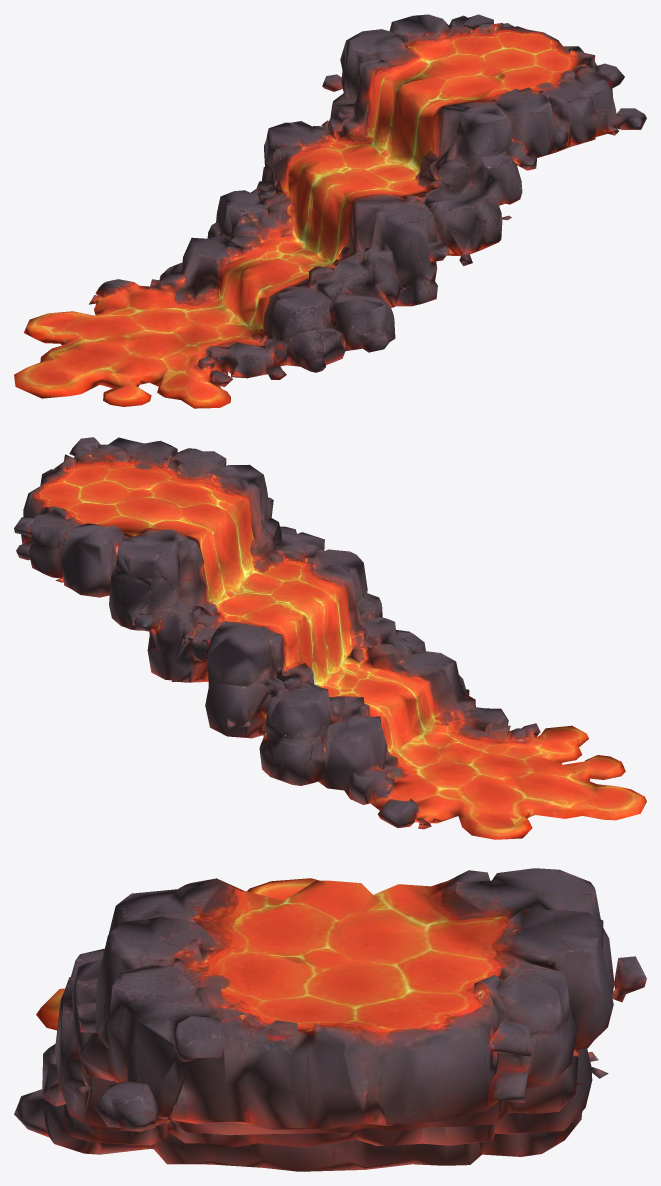
The model's file is lava_terrace.glb.
The picture shows the model from 3 angles, top to bottom: view 1: azimuth 30°, elevation 25°; view 2: azimuth 150°, elevation 25°; view 3: azimuth 270°, elevation 25°; orthographic projection. The views are drawn at different scales.
Visible parts, largest first — view 1: tripo_node_3d605f3a-470e-4d83-861b-35745978db56; view 2: tripo_node_3d605f3a-470e-4d83-861b-35745978db56; view 3: tripo_node_3d605f3a-470e-4d83-861b-35745978db56.
Boxes of the visible parts, left/top/right/bottom form: tripo_node_3d605f3a-470e-4d83-861b-35745978db56: left=14, top=14, right=646, bottom=408; tripo_node_3d605f3a-470e-4d83-861b-35745978db56: left=14, top=437, right=646, bottom=839; tripo_node_3d605f3a-470e-4d83-861b-35745978db56: left=14, top=868, right=646, bottom=1171.
Size of the model in its own units: 0.978 by 0.3307 by 0.4676.
1 material, 1 textured.
